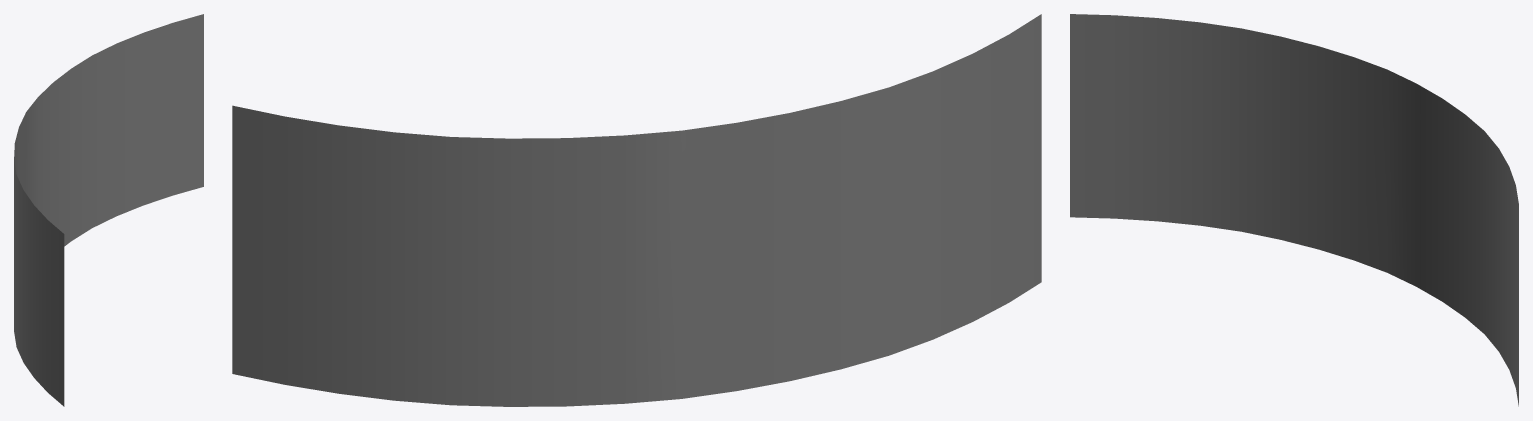
File: q-scifi-mod-shortwall-metal2-corner-outer.glb
The picture shows the model from 3 angles, left to right: view 1: azimuth 30°, elevation 25°; view 2: azimuth 150°, elevation 25°; view 3: azimuth 270°, elevation 25°; orthographic projection. The views are drawn at different scales.
Visible parts, largest first — view 1: ShortWall_Metal2_Corner_Outer; view 2: ShortWall_Metal2_Corner_Outer; view 3: ShortWall_Metal2_Corner_Outer.
Boxes of the visible parts, left/top/right/bottom form: ShortWall_Metal2_Corner_Outer: left=14, top=14, right=203, bottom=406; ShortWall_Metal2_Corner_Outer: left=232, top=14, right=1041, bottom=406; ShortWall_Metal2_Corner_Outer: left=1070, top=14, right=1518, bottom=406.
Bounding box in the file's own units: 4 × 2 × 4.
1 material, 1 textured.
